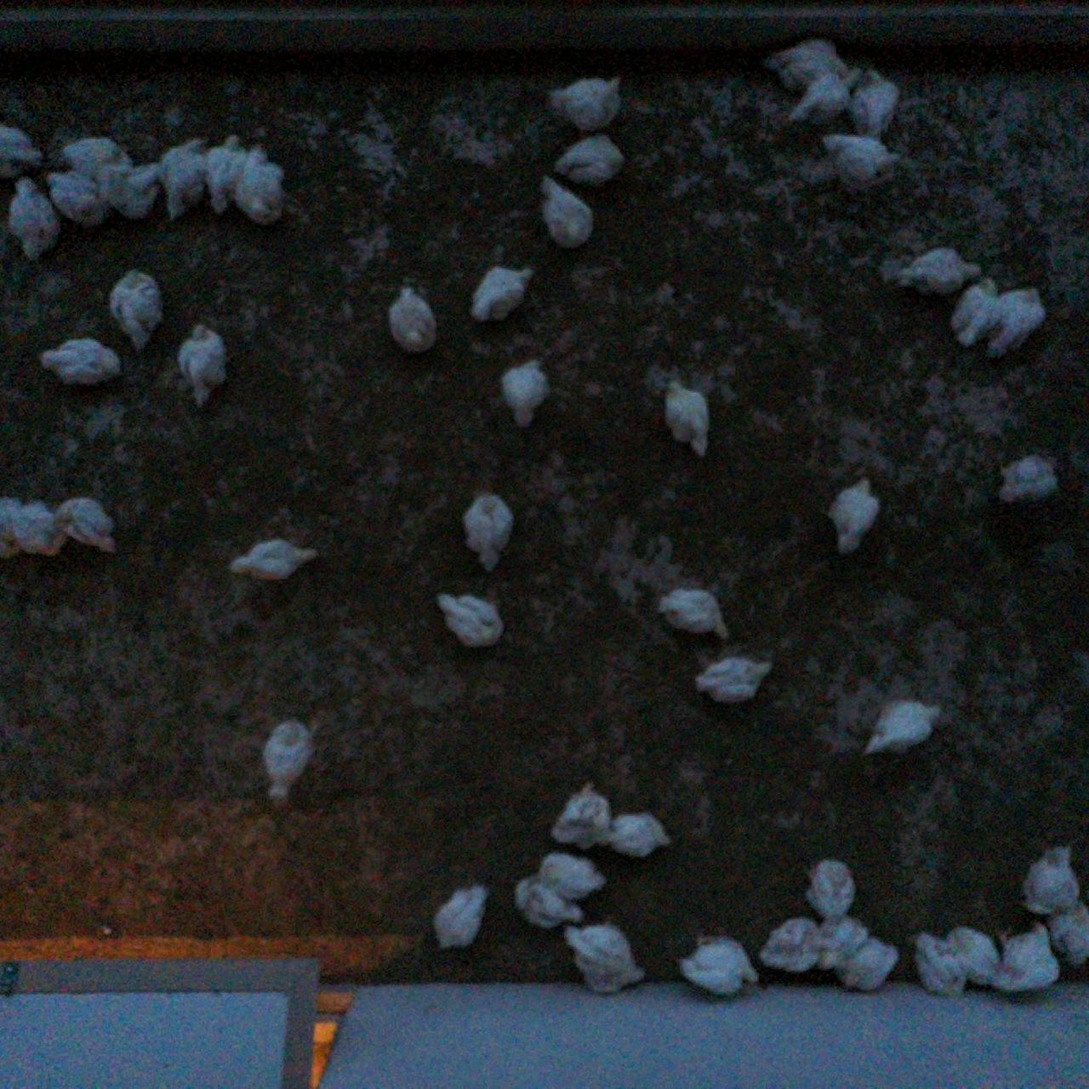chicken: (563, 913, 648, 1001), (671, 925, 765, 1000), (813, 127, 905, 202), (859, 694, 946, 763), (255, 714, 317, 810), (104, 263, 168, 355), (543, 70, 628, 139), (822, 472, 887, 561), (993, 917, 1065, 996), (172, 321, 232, 415), (764, 34, 853, 96), (155, 131, 213, 226), (1015, 839, 1083, 919), (3, 176, 64, 265), (36, 332, 129, 390), (458, 486, 518, 575), (506, 870, 589, 934), (843, 63, 905, 147), (230, 139, 289, 227), (897, 242, 987, 299), (49, 487, 121, 558), (549, 776, 617, 851), (466, 260, 542, 327), (756, 914, 839, 975), (535, 170, 598, 250), (227, 533, 322, 586), (431, 586, 506, 653), (983, 282, 1048, 359), (549, 128, 631, 189), (947, 271, 1008, 353), (784, 65, 866, 126), (690, 652, 777, 709), (429, 881, 493, 957), (198, 129, 252, 218), (496, 353, 554, 434), (656, 583, 731, 644), (43, 162, 109, 230), (58, 134, 137, 189), (385, 280, 440, 359), (946, 921, 1006, 993), (664, 376, 714, 461), (97, 157, 163, 221), (802, 853, 860, 925), (835, 935, 903, 996), (535, 847, 609, 902), (911, 925, 966, 999), (1037, 895, 1089, 973), (8, 495, 70, 560), (600, 806, 674, 860), (992, 451, 1063, 506), (814, 909, 874, 974), (0, 116, 46, 180), (0, 494, 24, 561)
